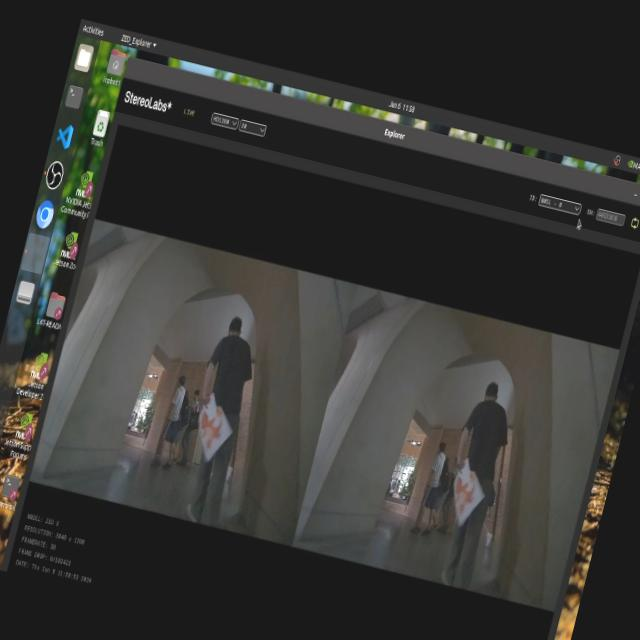red: (184, 401, 246, 462), (444, 463, 488, 530)
